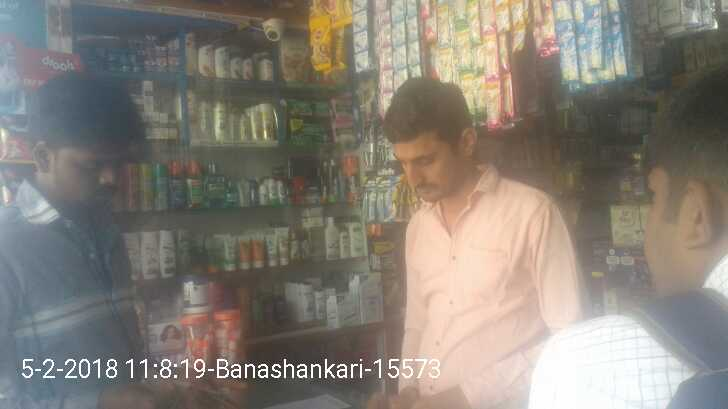beauty: (213, 34, 231, 76), (214, 98, 228, 142), (199, 38, 214, 76), (260, 110, 275, 141), (230, 48, 244, 78)
